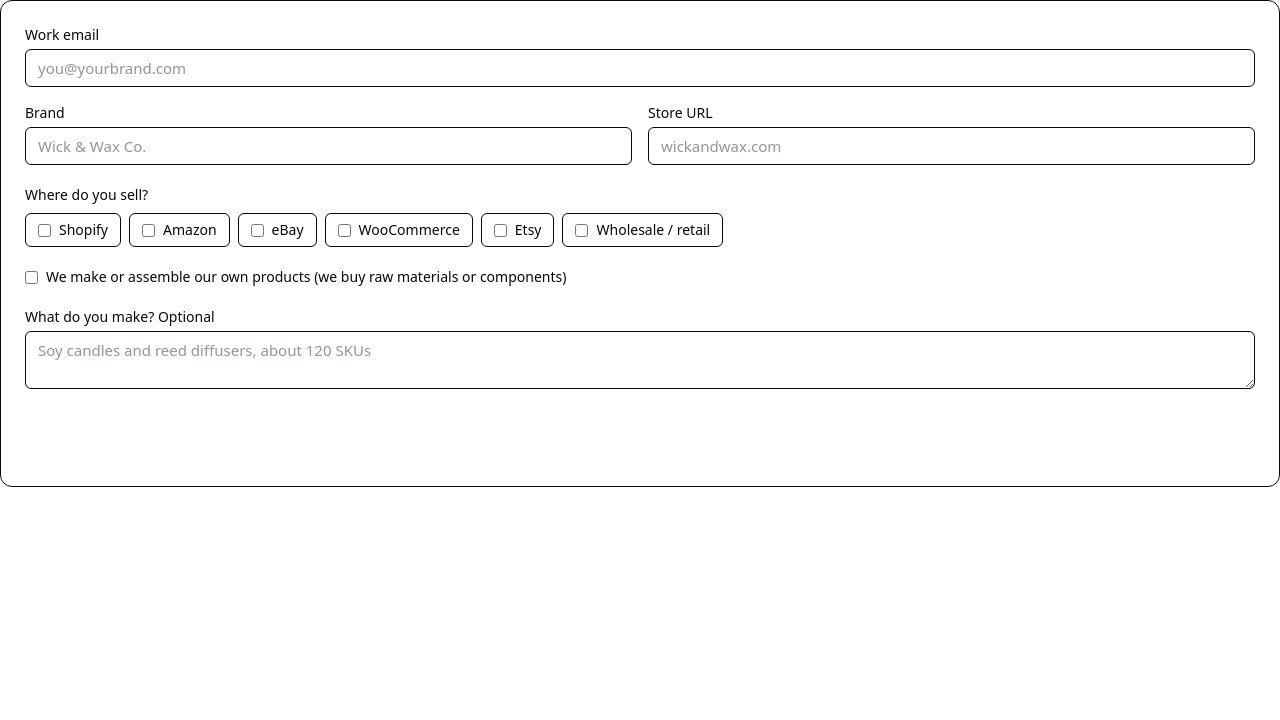
Test: waitlist form › explains a rejected email
Type "x@y.z" into the field labelled "Work email" at (640,68), box top-left (25, 49), bottom-right (1255, 87)
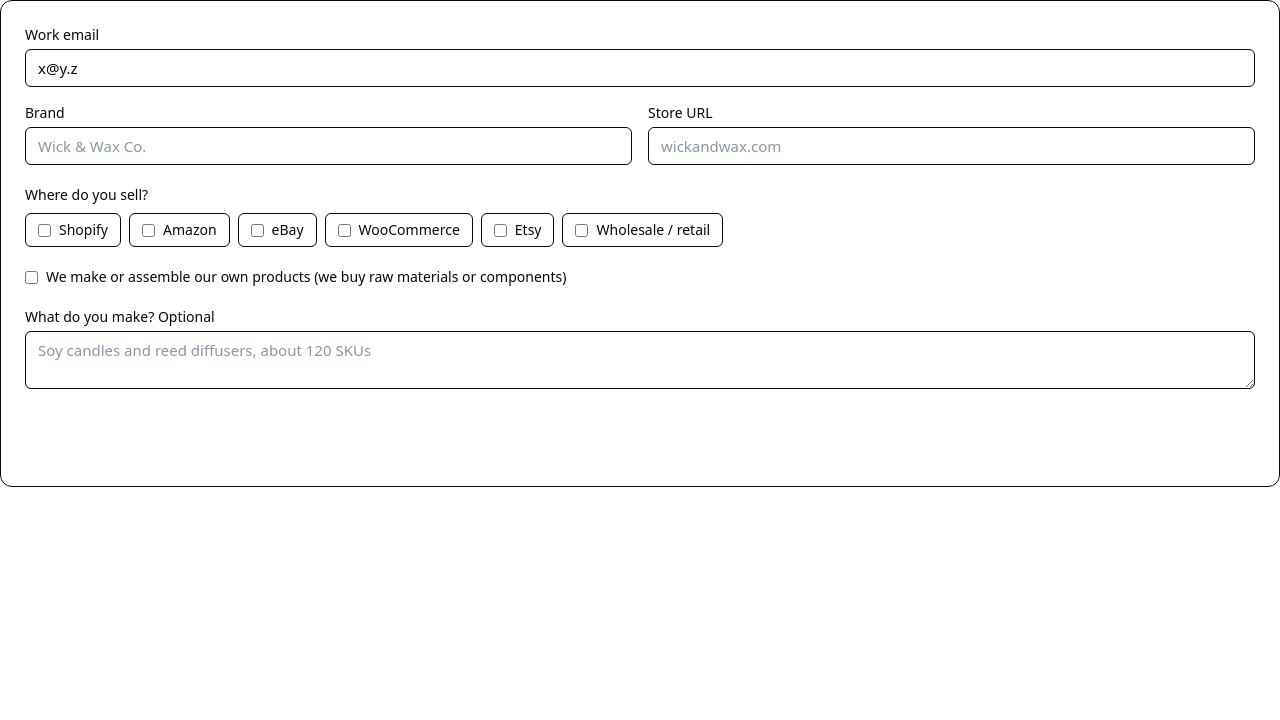
Submit the form with test id "waitlist-form"
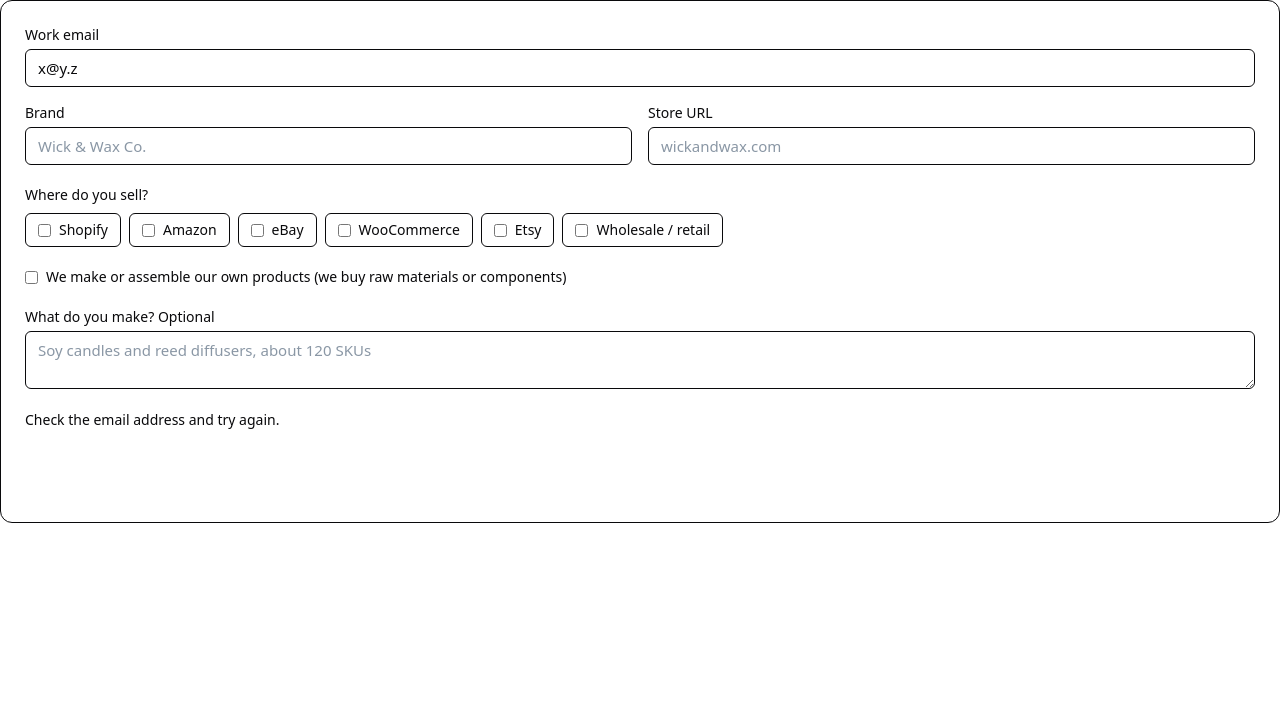
Now the message shows "email address", box top-left (25, 410), bottom-right (279, 429)
